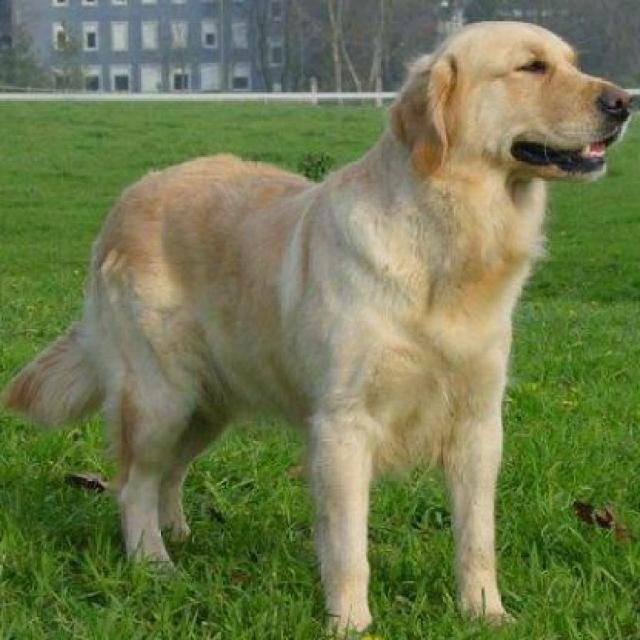Dog: (6, 9, 639, 631)
